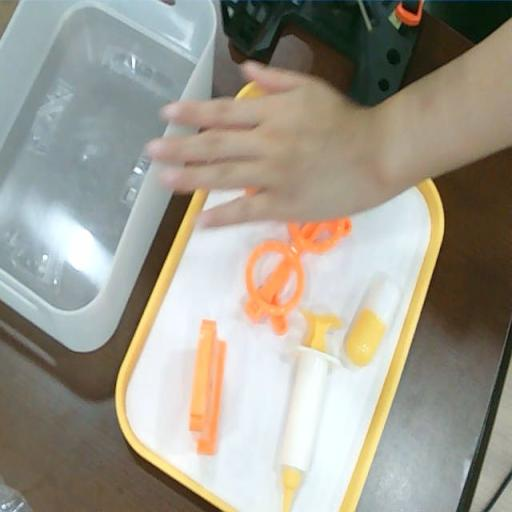hospital: (152, 59, 410, 223)
